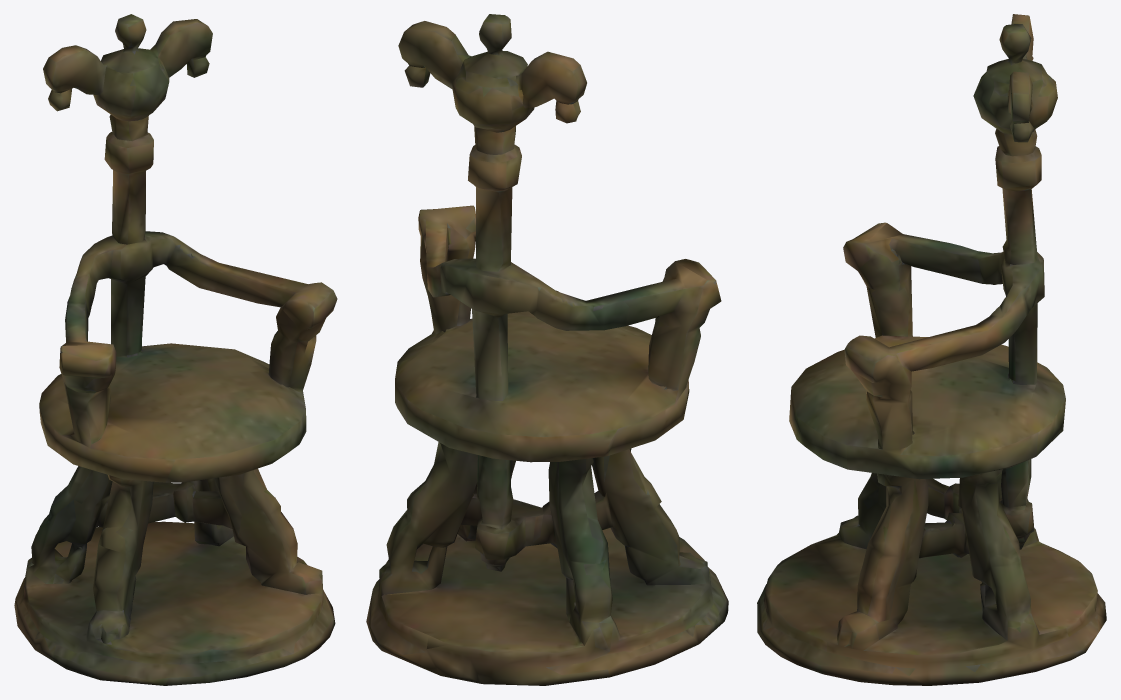
File: sturdy-bronze-throne-v001.glb
The picture shows the model from 3 angles, left to right: view 1: azimuth 30°, elevation 25°; view 2: azimuth 150°, elevation 25°; view 3: azimuth 270°, elevation 25°; orthographic projection. The views are drawn at different scales.
Parts seen in each view (by area): view 1: sturdy-bronze-throne; view 2: sturdy-bronze-throne; view 3: sturdy-bronze-throne.
Boxes of the visible parts, box(x1,y1,x2,y2) form: sturdy-bronze-throne: box(14, 14, 337, 685); sturdy-bronze-throne: box(366, 14, 728, 685); sturdy-bronze-throne: box(757, 14, 1106, 685).
Bounding box in the file's own units: 0.9733 × 1.9 × 1.02.
1 material, 1 textured.
